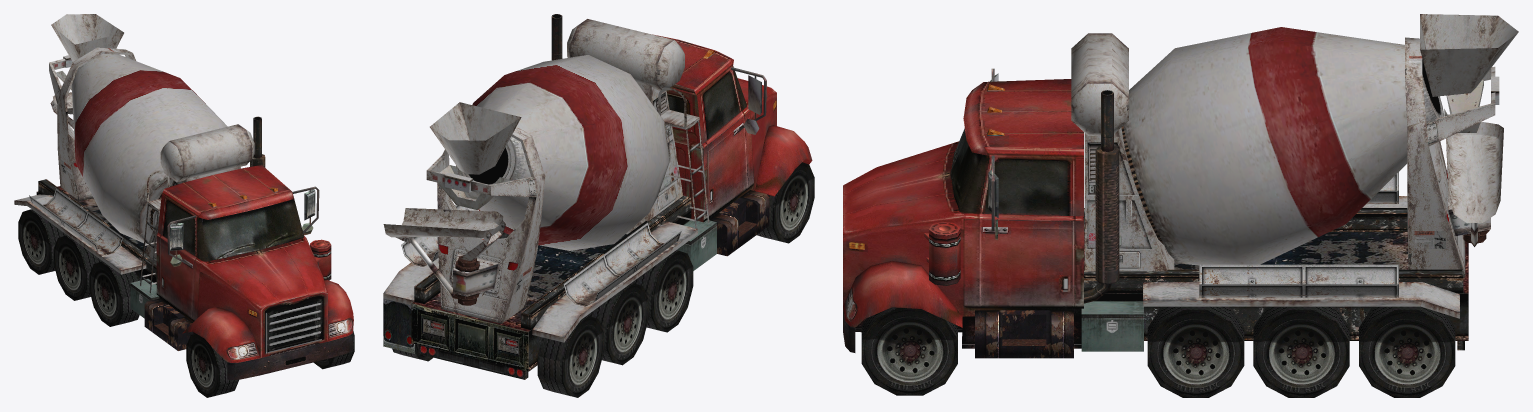
The model's file is cement_truck.fbx.
3 renders of one model, left to right at view 1: azimuth 30°, elevation 25°; view 2: azimuth 150°, elevation 25°; view 3: azimuth 270°, elevation 25°, orthographic. The views are drawn at different scales.
Parts seen in each view (by area): view 1: mesh_2, mesh_12, mesh_4, mesh_13, mesh_58, mesh_62, mesh_14, mesh_34, mesh_59, mesh_60, mesh_27, mesh_61 (+11 smaller); view 2: mesh_12, mesh_2, mesh_13, mesh_15, mesh_4, mesh_14, mesh_60, mesh_62, mesh_58, mesh_59, mesh_61, mesh_23 (+19 smaller); view 3: mesh_12, mesh_2, mesh_13, mesh_36, mesh_37, mesh_38, mesh_35, mesh_15, mesh_63, mesh_14, mesh_9, mesh_39 (+9 smaller).
Part boxes in pixels (left/top/right/bottom): mesh_2: left=156, top=165, right=353, bottom=380; mesh_12: left=71, top=53, right=240, bottom=243; mesh_4: left=160, top=124, right=254, bottom=182; mesh_13: left=49, top=47, right=135, bottom=200; mesh_58: left=89, top=261, right=139, bottom=326; mesh_62: left=29, top=188, right=122, bottom=255; mesh_14: left=51, top=14, right=123, bottom=61; mesh_34: left=186, top=333, right=238, bottom=397; mesh_59: left=53, top=235, right=102, bottom=300; mesh_60: left=18, top=209, right=66, bottom=274; mesh_27: left=144, top=298, right=193, bottom=350; mesh_61: left=14, top=194, right=146, bottom=274; mesh_12: left=472, top=55, right=669, bottom=250; mesh_2: left=652, top=34, right=812, bottom=222; mesh_13: left=426, top=127, right=545, bottom=323; mesh_15: left=411, top=213, right=691, bottom=371; mesh_4: left=567, top=19, right=684, bottom=91; mesh_14: left=430, top=102, right=521, bottom=174; mesh_60: left=537, top=315, right=603, bottom=397; mesh_62: left=563, top=222, right=681, bottom=306; mesh_58: left=632, top=250, right=693, bottom=332; mesh_59: left=587, top=283, right=648, bottom=365; mesh_61: left=532, top=221, right=697, bottom=342; mesh_23: left=383, top=208, right=503, bottom=238; mesh_12: left=1123, top=27, right=1436, bottom=265; mesh_2: left=843, top=79, right=1083, bottom=352; mesh_13: left=1405, top=37, right=1495, bottom=277; mesh_36: left=1147, top=306, right=1244, bottom=397; mesh_37: left=1253, top=306, right=1349, bottom=397; mesh_38: left=1359, top=306, right=1455, bottom=397; mesh_35: left=861, top=307, right=957, bottom=395; mesh_15: left=1084, top=232, right=1468, bottom=340; mesh_63: left=1199, top=264, right=1398, bottom=297; mesh_14: left=1420, top=14, right=1518, bottom=96; mesh_9: left=1084, top=128, right=1174, bottom=271; mesh_39: left=1143, top=282, right=1459, bottom=318.
Bounding box in the file's own units: 305 × 396 × 768.
4 materials, 4 textured.
